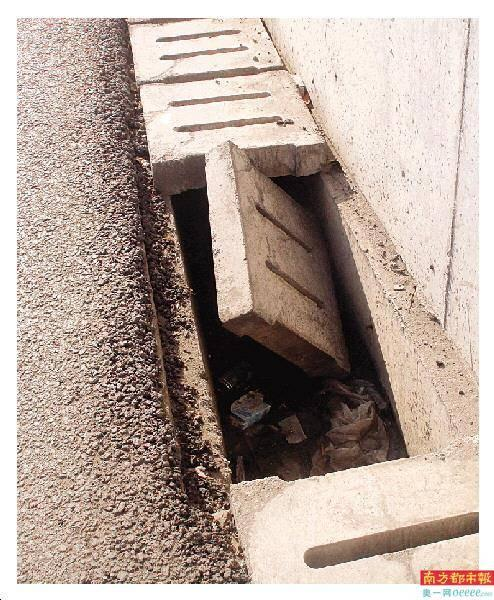wellcover: (127, 138, 480, 506)
